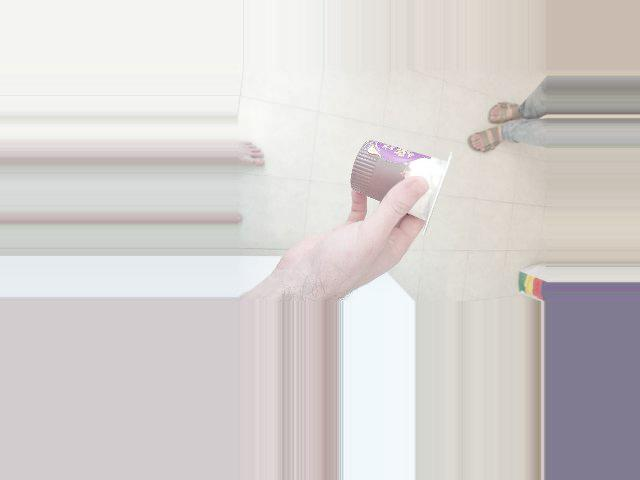milky: (338, 148, 454, 216)
